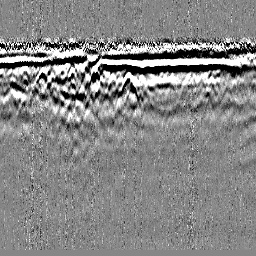cavity: (118, 70, 139, 102)
